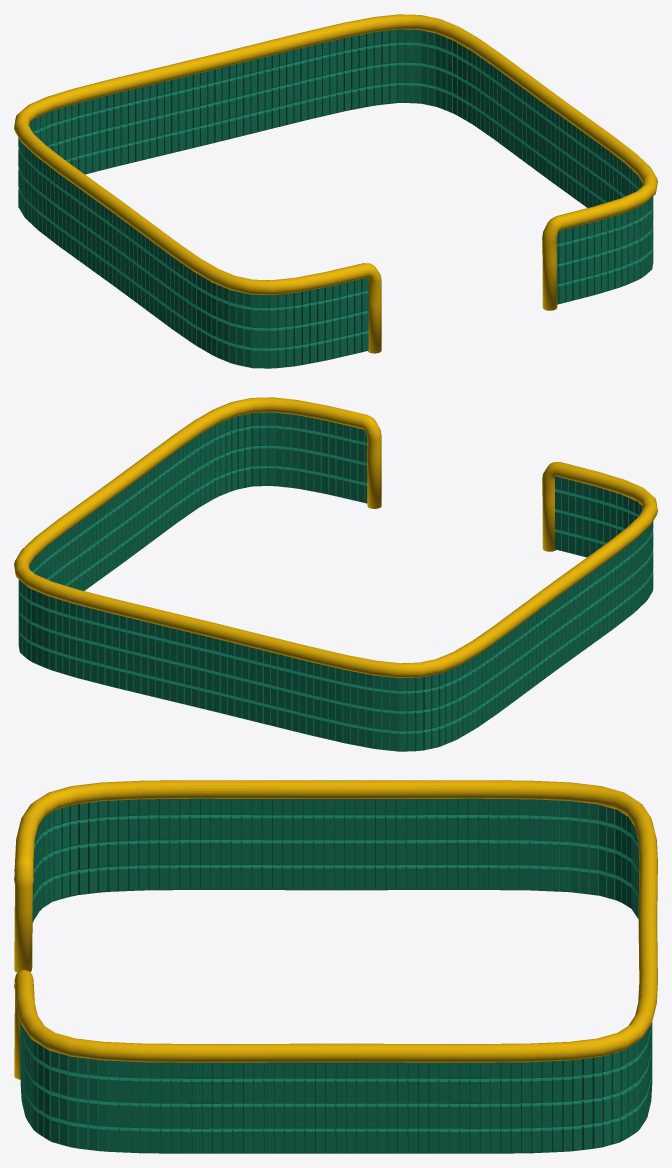
The model's file is FunMediumLvl3.fbx.
3 renders of one model, top to bottom at view 1: azimuth 30°, elevation 25°; view 2: azimuth 150°, elevation 25°; view 3: azimuth 270°, elevation 25°, orthographic. The views are drawn at different scales.
Visible parts, largest first — view 1: M3Wall; view 2: M3Wall; view 3: M3Wall.
Boxes of the visible parts, <box> form: M3Wall: <box>14,14,657,368</box>; M3Wall: <box>14,397,657,751</box>; M3Wall: <box>14,780,657,1153</box>.
Size of the model in its own units: 238 by 45.1 by 239.
